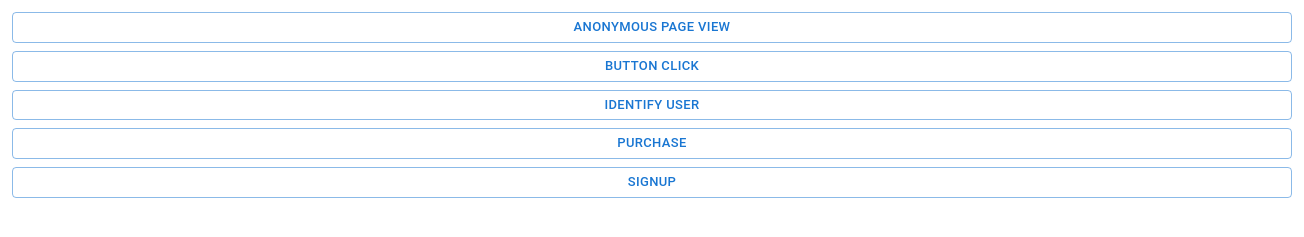
Test: QuickFireButtons › feedback › displays error feedback when the send fails
The width and height of the screenshot is (1304, 237).
Step 1. Click the button "Anonymous Page View" → click(652, 27), box [12, 12, 1292, 43]
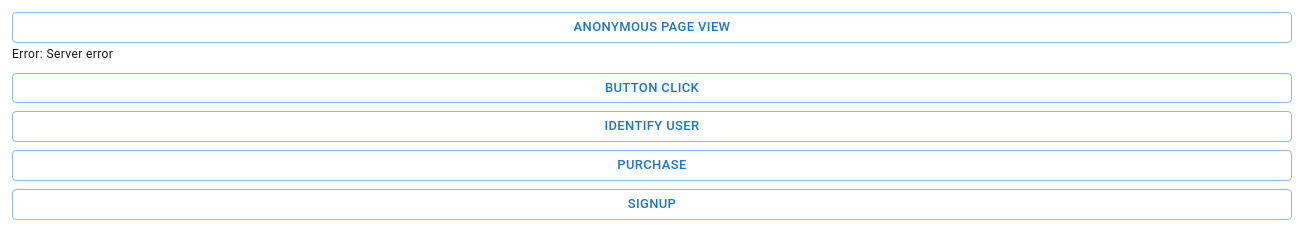
Now the text "Error: Server error" is shown, box [12, 47, 113, 61]
